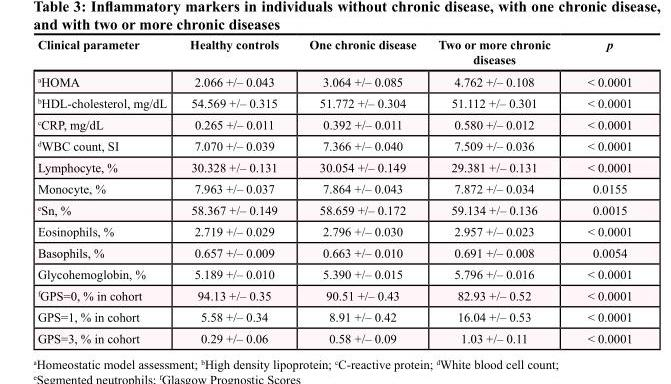table: (36, 36, 631, 344)
table column: (426, 36, 568, 344), (36, 36, 177, 344), (293, 36, 426, 344), (177, 36, 293, 344), (568, 36, 631, 344)
table column header: (36, 36, 631, 70)
table row: (36, 36, 631, 70), (36, 70, 631, 92), (36, 134, 631, 156), (36, 198, 631, 220), (36, 241, 631, 263), (36, 305, 631, 327), (36, 92, 631, 113), (36, 113, 631, 134), (36, 156, 631, 177), (36, 177, 631, 198), (36, 220, 631, 241), (36, 263, 631, 284), (36, 284, 631, 305), (36, 327, 631, 344)
